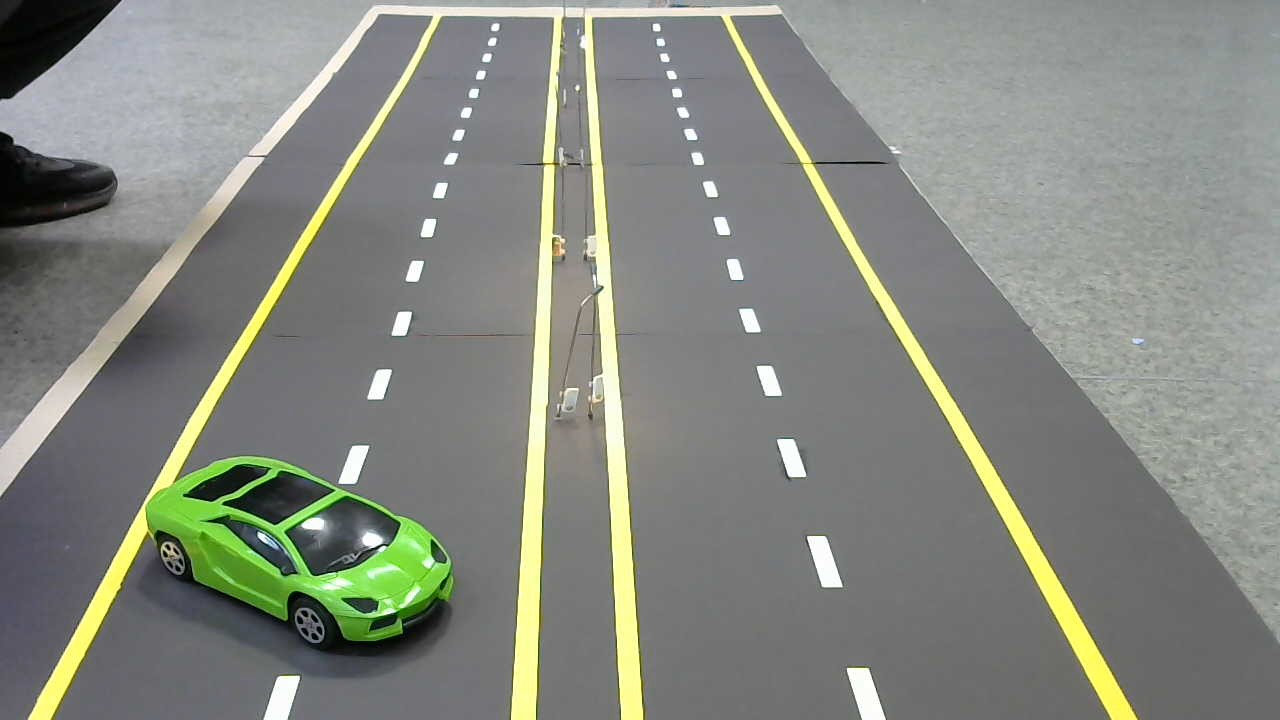overturn_car: (143, 452, 459, 662)
